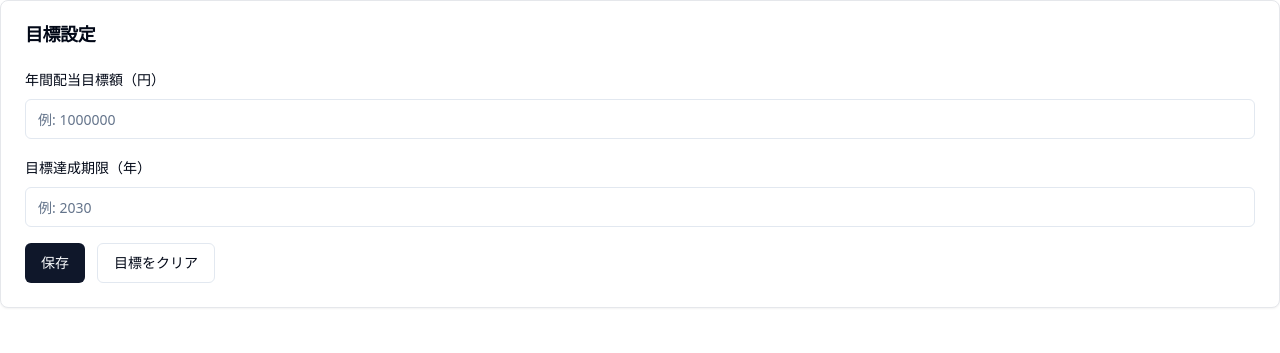
GoalForm › タスク3.2: フォームバリデーション › 目標額に0未満の値が入力された場合、エラーメッセージを表示する
Type "-100" into the number field labelled "年間配当目標額（円）" at (640, 119), box [25,99,1255,139]
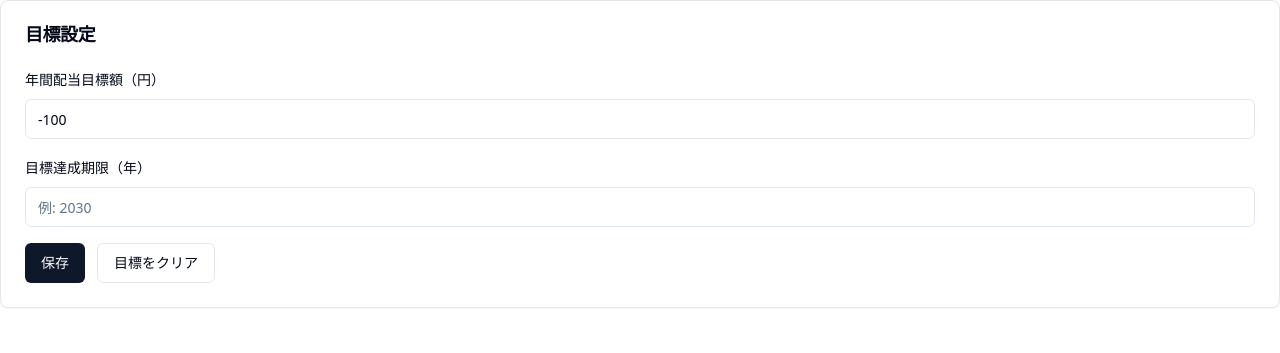
Click the button "保存" at (55, 263), box [25,243,85,283]
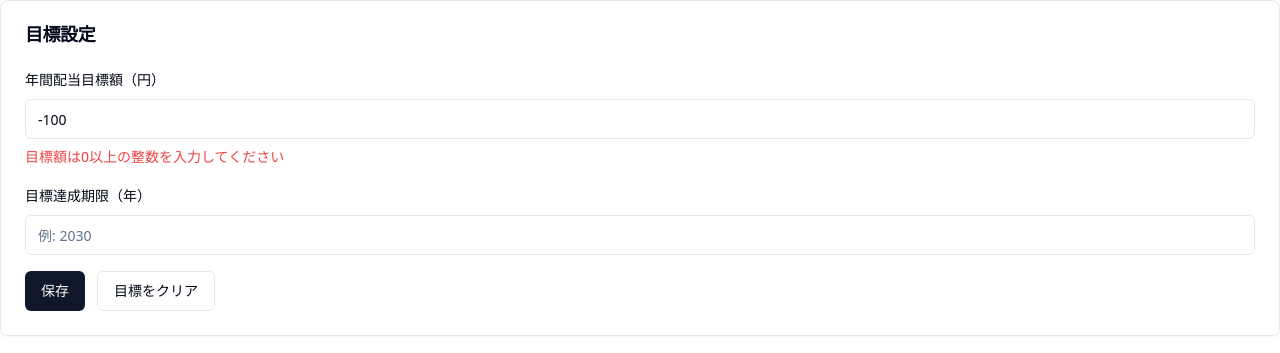
Result: the text "目標額は0以上の整数を入力してください" is shown at [25,147,284,166]
